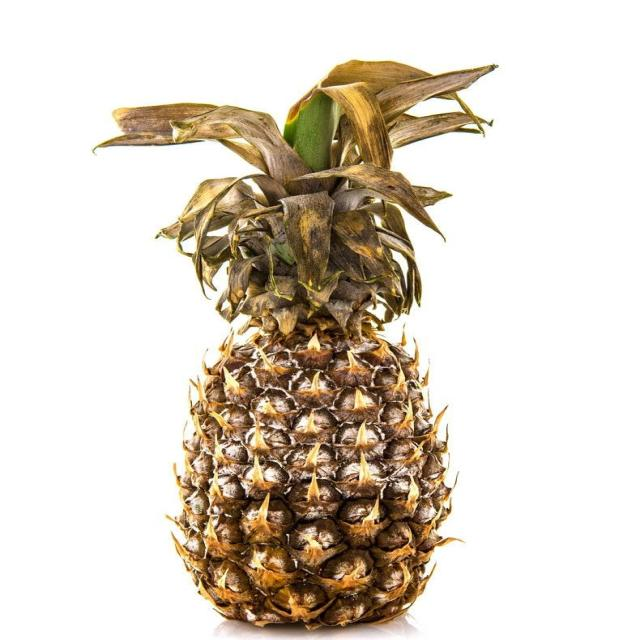Wet Waste: (91, 59, 498, 628)
